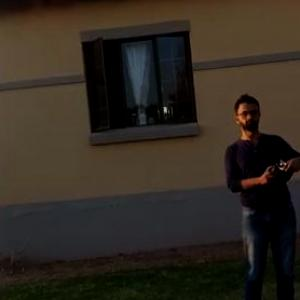follow: (220, 88, 299, 299)
null: (1, 240, 35, 280)
